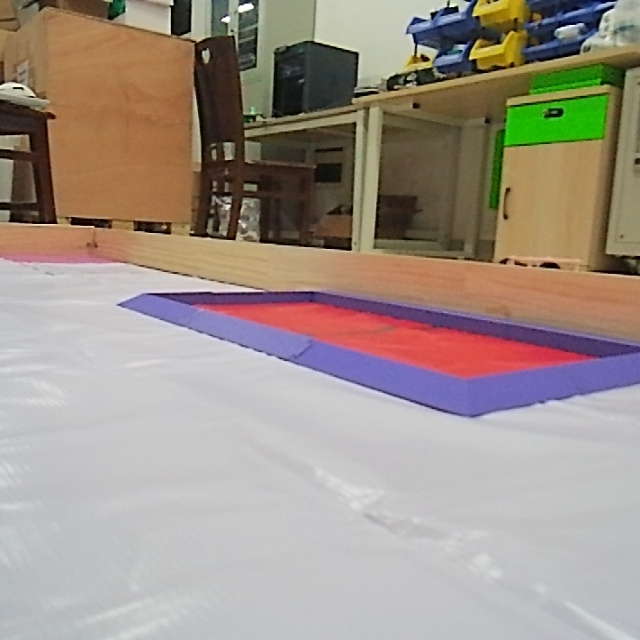zone1: (109, 277, 639, 425)
